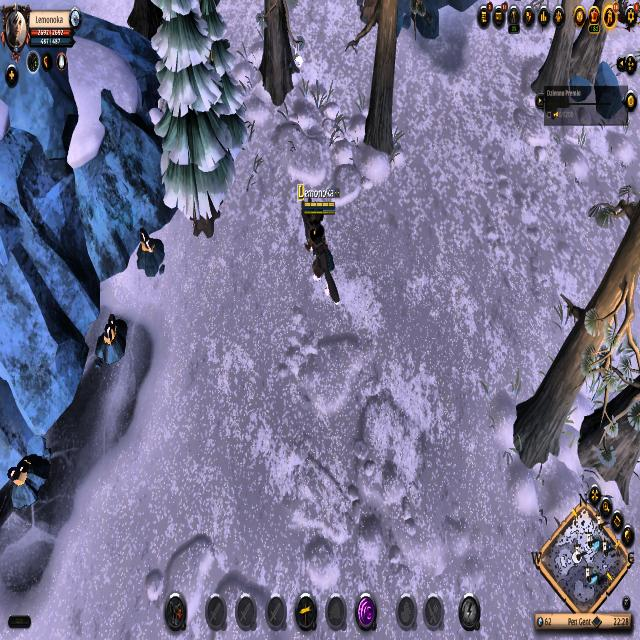ore tier 2: (6, 453, 52, 510), (95, 312, 128, 370), (135, 227, 166, 279)
